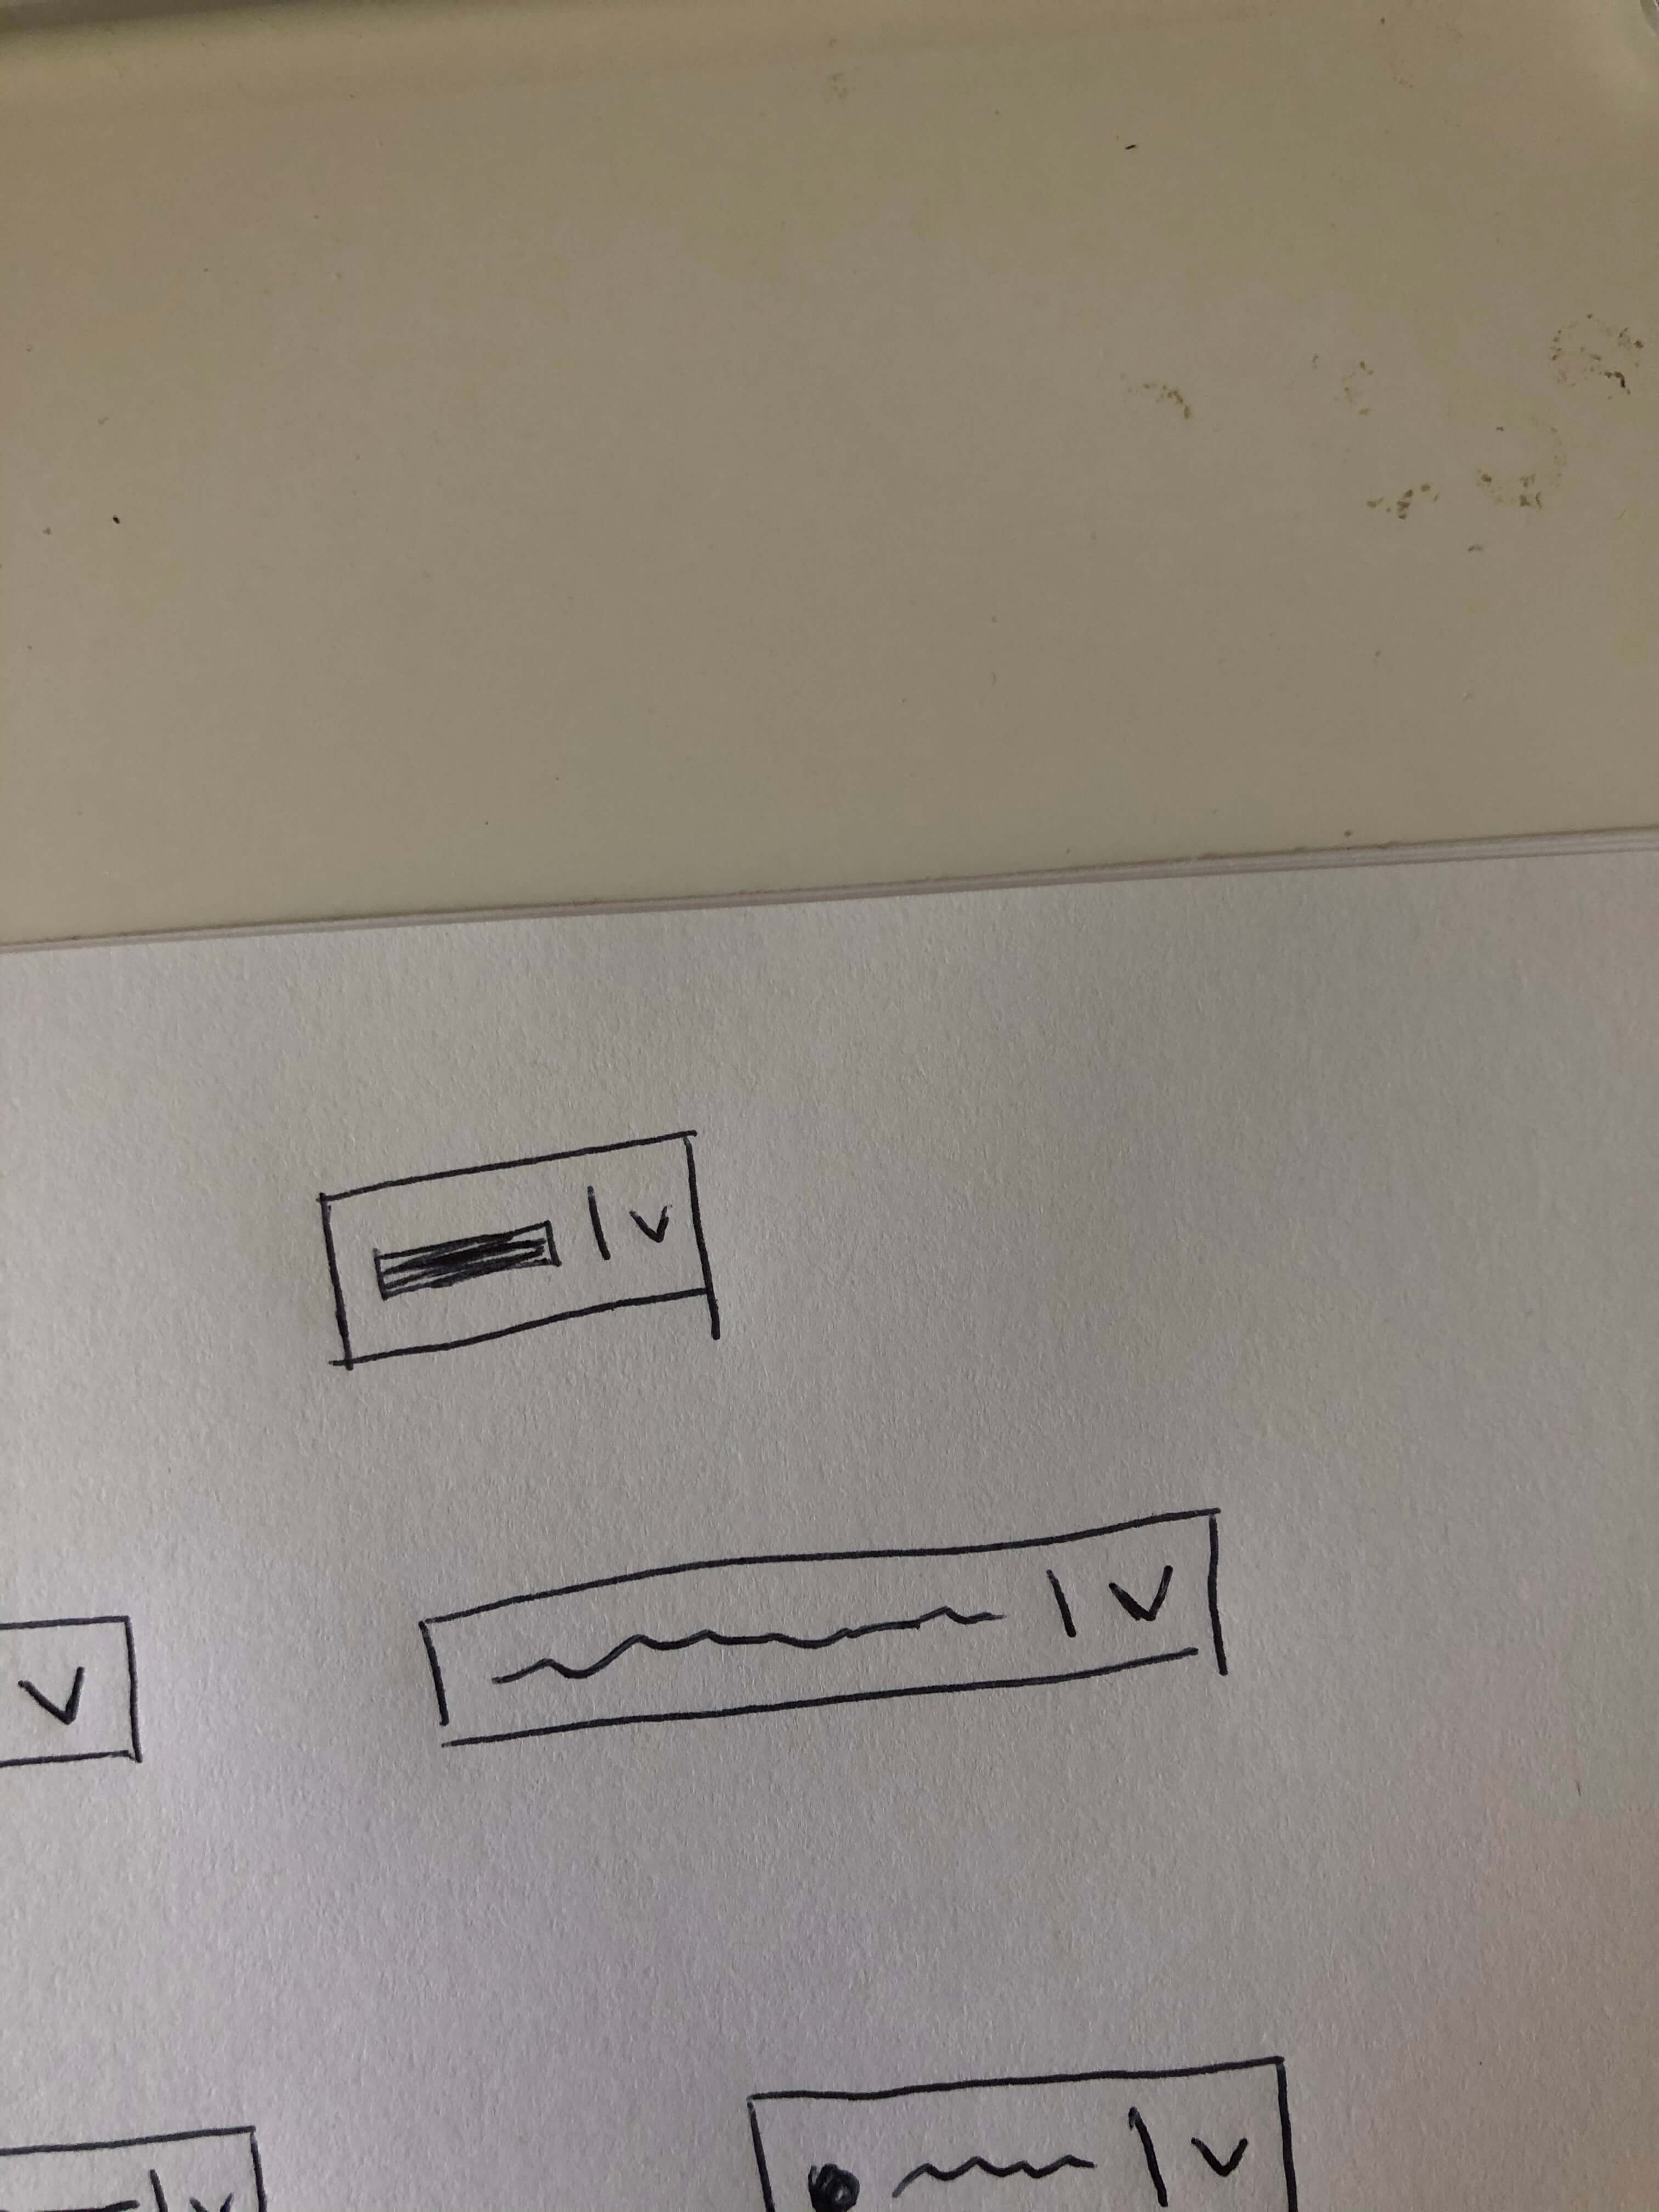split-button: (394, 1494, 1246, 1763), (298, 1116, 742, 1376)
